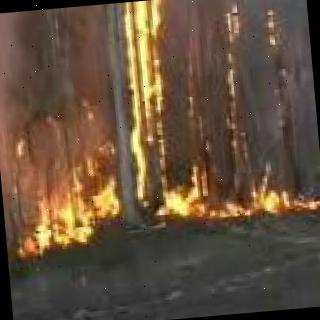fire: (119, 0, 186, 192), (0, 165, 121, 255), (160, 189, 320, 228), (220, 0, 253, 137)
